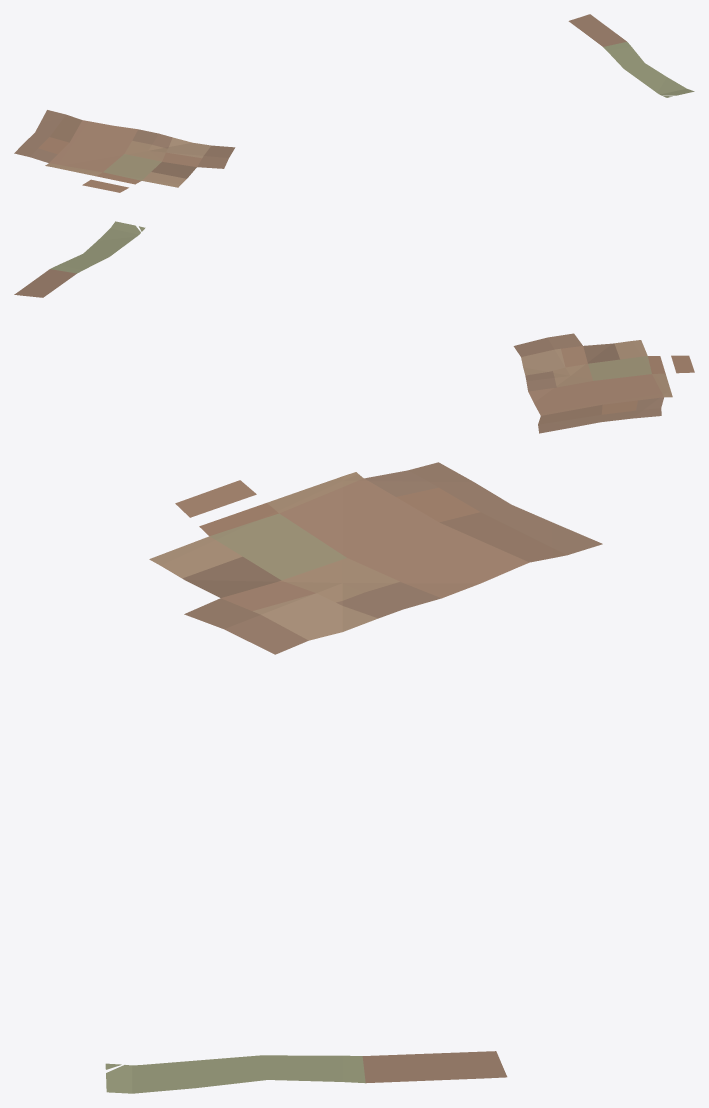
File: farm_20_22_soil.glb
3 views of the same model, one above another, from view 1: azimuth 30°, elevation 25°; view 2: azimuth 150°, elevation 25°; view 3: azimuth 270°, elevation 25° (orthographic). The views are drawn at different scales.
Parts seen in each view (by area): view 1: geometry_0; view 2: geometry_0; view 3: geometry_0.
Part boxes in pixels (box(x1,y1,x2,y2)): geometry_0: box(14, 14, 694, 192); geometry_0: box(14, 221, 694, 433); geometry_0: box(105, 462, 602, 1093).
Bounding box in the file's own units: 526 × 20.88 × 189.
